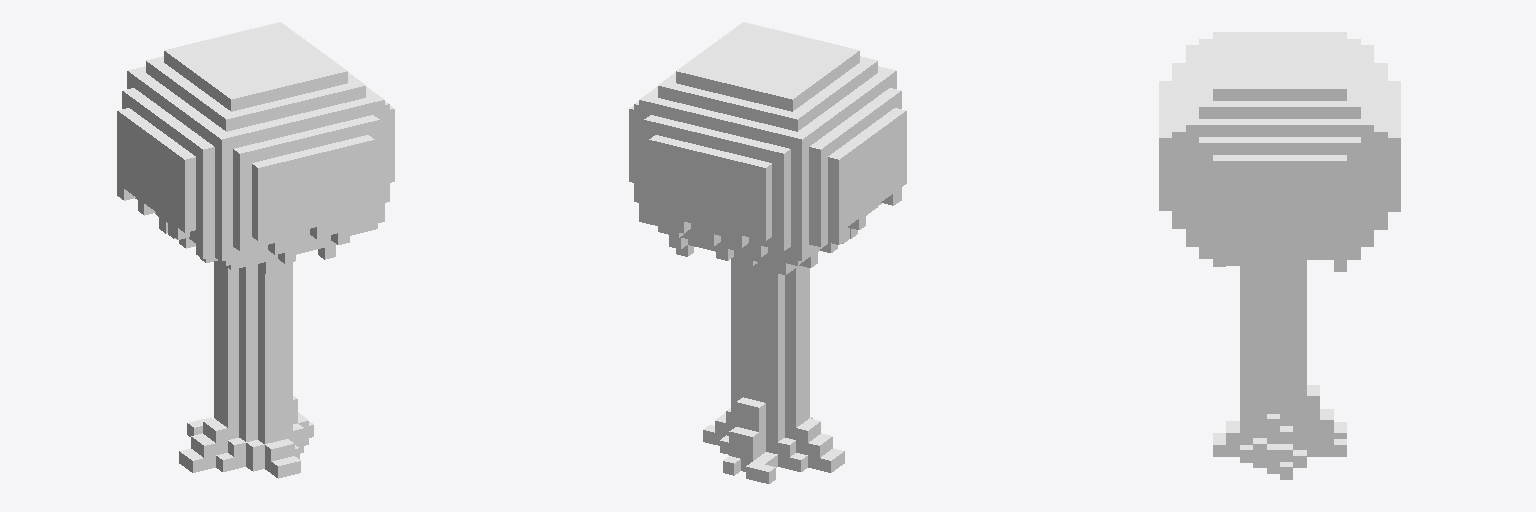
File: AppleTree.obj
The picture shows the model from 3 angles: view 1: azimuth 30°, elevation 25°; view 2: azimuth 150°, elevation 25°; view 3: azimuth 270°, elevation 25°; orthographic projection.
Visible parts, largest first — view 1: object 1; view 2: object 1; view 3: object 1.
Part boxes in pixels (x1,y1,x2,y2): object 1: (117, 22, 394, 478); object 1: (629, 22, 906, 483); object 1: (1159, 32, 1400, 479).
Bounding box in the file's own units: 1.8 × 3.2 × 1.8.